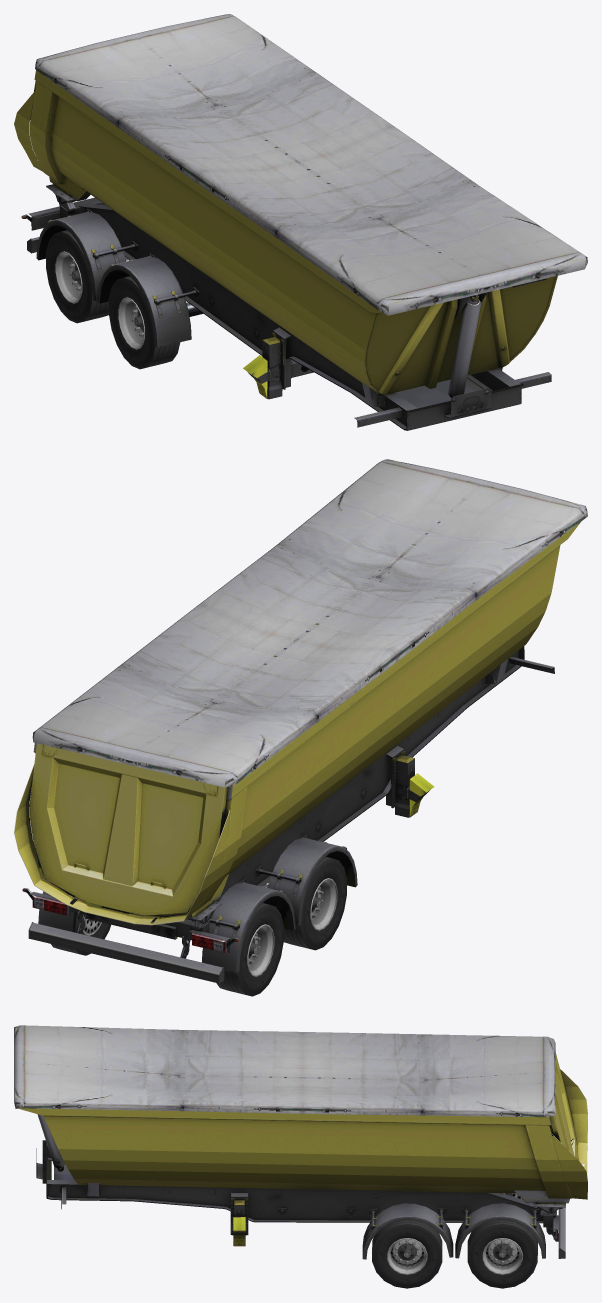
The model's file is OpenTopnew1.fbx.
The picture shows the model from 3 angles, top to bottom: view 1: azimuth 30°, elevation 25°; view 2: azimuth 150°, elevation 25°; view 3: azimuth 270°, elevation 25°; orthographic projection. The views are drawn at different scales.
Visible parts, largest first — view 1: Chassis, WheelRM, WheelRR; view 2: Chassis, WheelRM, WheelRR; view 3: Chassis, WheelLM, WheelLR.
Boxes of the visible parts, x1=… form: Chassis: x1=14, y1=14, x2=587, y2=430; WheelRM: x1=108, y1=276, x2=180, y2=369; WheelRR: x1=46, y1=230, x2=108, y2=323; Chassis: x1=14, y1=459, x2=587, y2=983; WheelRM: x1=283, y1=857, x2=346, y2=950; WheelRR: x1=216, y1=903, x2=283, y2=996; Chassis: x1=14, y1=1025, x2=587, y2=1259; WheelLM: x1=372, y1=1220, x2=442, y2=1288; WheelLR: x1=467, y1=1220, x2=537, y2=1288.
Bounding box in the file's own units: 267 × 302 × 816.
2 materials, 2 textured.
